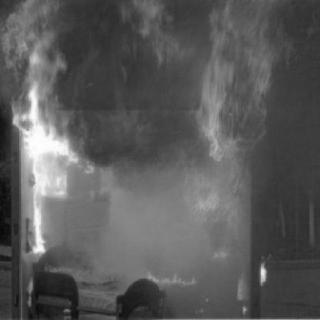Fire: (10, 2, 317, 318)
